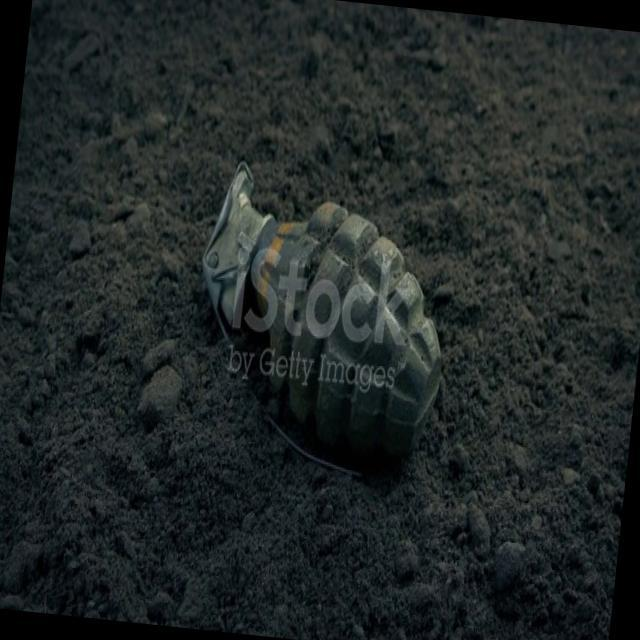grenade: (177, 162, 466, 488)
